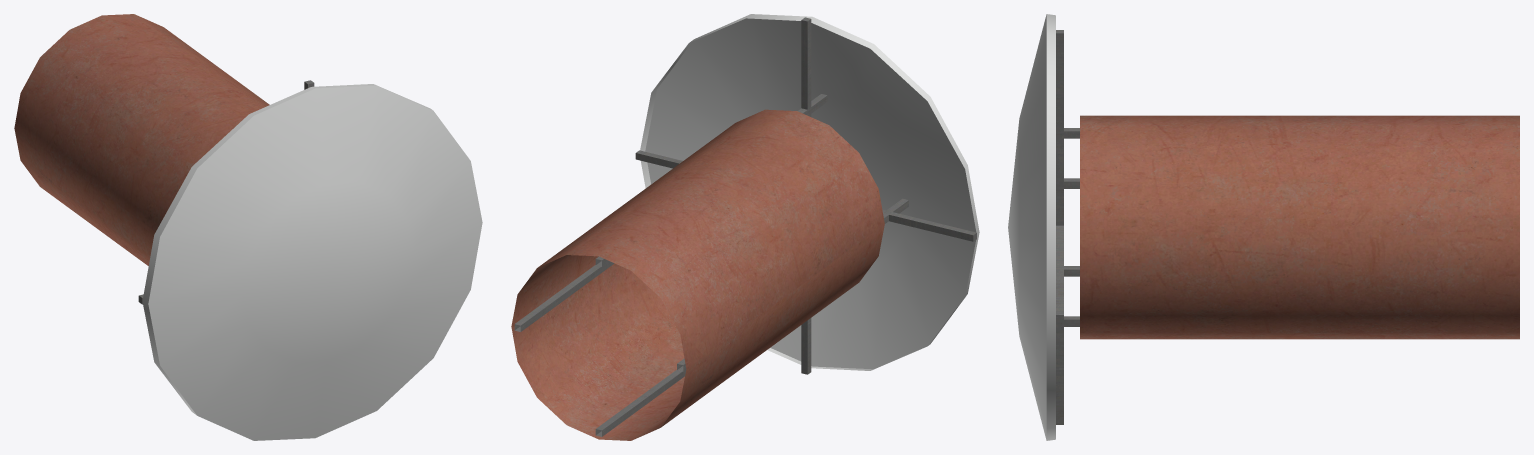
File: nt_2020_vista_kiosk_01_LOD0.obj
3 renders of one model, left to right at view 1: azimuth 30°, elevation 25°; view 2: azimuth 150°, elevation 25°; view 3: azimuth 270°, elevation 25°, orthographic. The views are drawn at different scales.
Parts seen in each view (by area): view 1: ap_chrome, metal_wall_orange; view 2: metal_wall_orange, ap_chrome, metal_stainless_steel_editor; view 3: metal_wall_orange, ap_chrome, metal_stainless_steel_editor.
Boxes of the visible parts, x1,y1,x2,y2 form: ap_chrome: (142,84,482,440); metal_wall_orange: (14,14,269,265); metal_wall_orange: (511,109,884,440); ap_chrome: (640,14,979,370); metal_stainless_steel_editor: (514,17,976,436); metal_wall_orange: (1080,115,1519,339); ap_chrome: (1008,14,1055,440); metal_stainless_steel_editor: (1056,30,1079,424).
Bounding box in the file's own units: 274 × 274 × 325.
